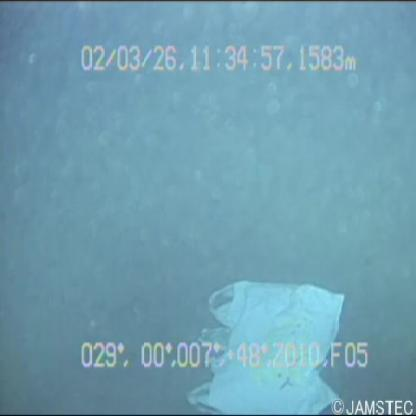Rác: (186, 259, 348, 416)
